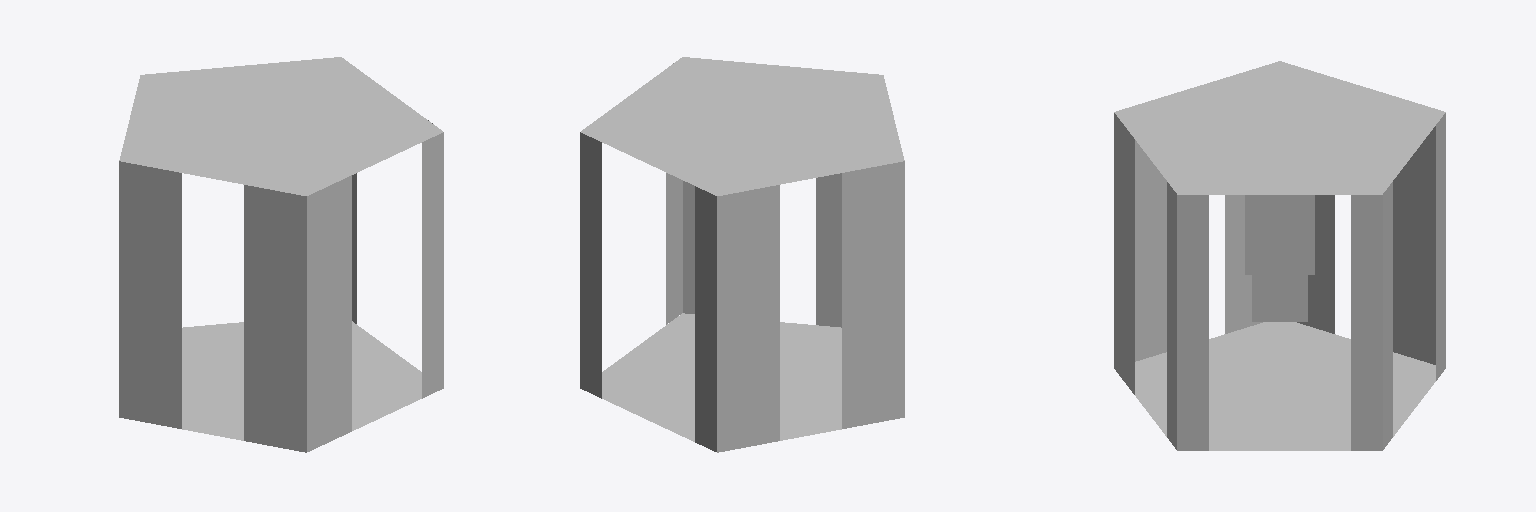
The model's file is elevator_shaft-01-car.obj.
The picture shows the model from 3 angles: view 1: azimuth 30°, elevation 25°; view 2: azimuth 150°, elevation 25°; view 3: azimuth 270°, elevation 25°; orthographic projection.
Parts seen in each view (by area): view 1: Circle.001; view 2: Circle.001; view 3: Circle.001, Plane.003_Plane.001, Plane.002_Plane.004.
Part boxes in pixels (left/top/right/bottom): Circle.001: left=119, top=57, right=443, bottom=452; Circle.001: left=580, top=57, right=904, bottom=452; Circle.001: left=1114, top=61, right=1445, bottom=450; Plane.003_Plane.001: left=1245, top=195, right=1314, bottom=274; Plane.002_Plane.004: left=1252, top=275, right=1307, bottom=321.
Bounding box in the file's own units: 4.47 × 4 × 4.7.